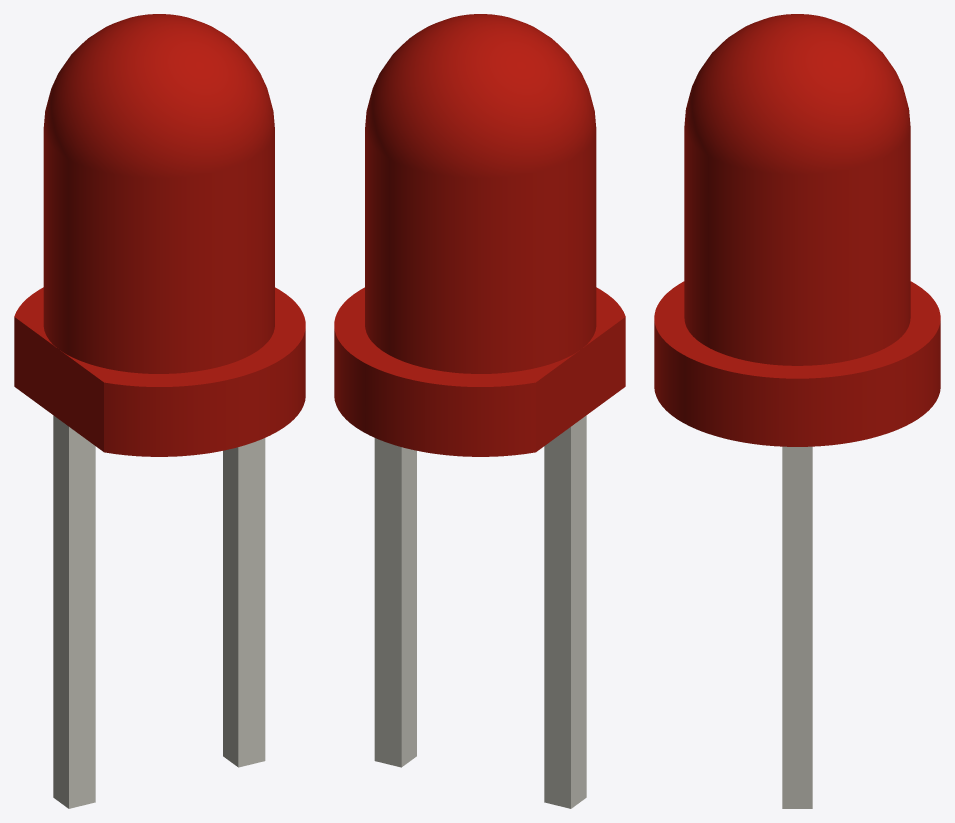
File: led_d3_0mm.glb
The picture shows the model from 3 angles, left to right: view 1: azimuth 30°, elevation 25°; view 2: azimuth 150°, elevation 25°; view 3: azimuth 270°, elevation 25°; orthographic projection. The views are drawn at different scales.
Visible parts, largest first — view 1: led_3mm, pin_2, pin_1; view 2: led_3mm, pin_2, pin_1; view 3: led_3mm, pin_2.
Part boxes in pixels (x1,y1,x2,y2): led_3mm: (14,14,305,633); pin_2: (223,582,265,767); pin_1: (53,623,95,808); led_3mm: (334,14,625,633); pin_2: (374,582,416,767); pin_1: (544,623,586,808); led_3mm: (654,14,940,638); pin_2: (782,638,812,808).
Size of the model in its own units: 0.0034 by 0.0108 by 0.0038.
